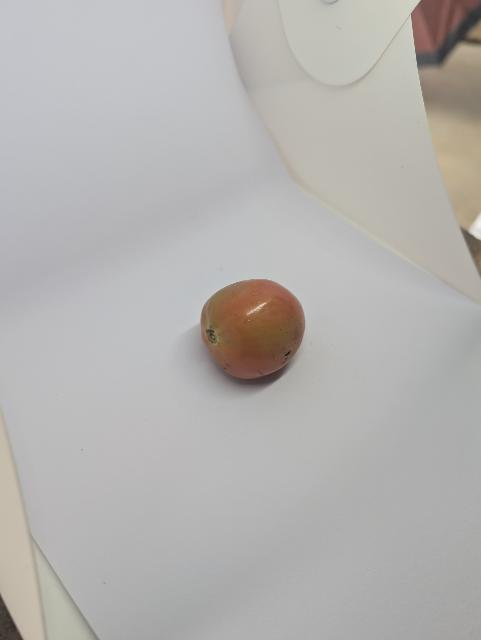turning: (195, 272, 316, 395)
